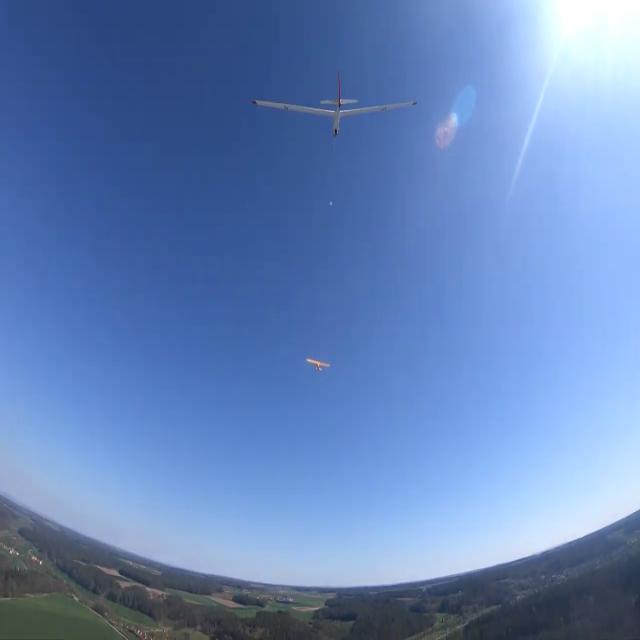iha: (249, 39, 417, 45), (308, 356, 332, 372)
